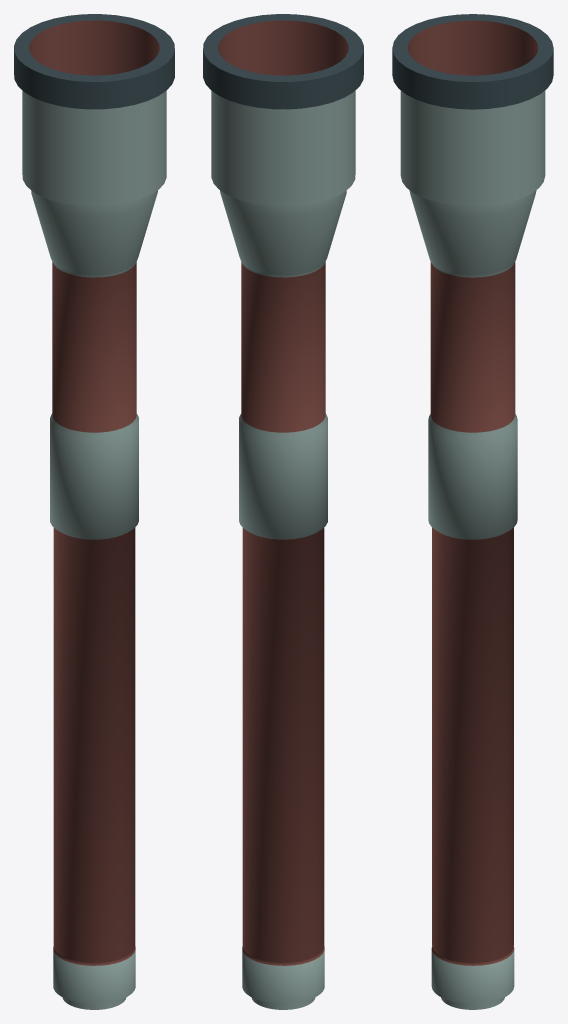
File: Torchlight.fbx
The picture shows the model from 3 angles, left to right: view 1: azimuth 30°, elevation 25°; view 2: azimuth 150°, elevation 25°; view 3: azimuth 270°, elevation 25°; orthographic projection.
Parts seen in each view (by area): view 1: Cylinder; view 2: Cylinder; view 3: Cylinder.
Part boxes in pixels (x1,y1,x2,y2): Cylinder: (14, 14, 174, 1009); Cylinder: (203, 14, 363, 1009); Cylinder: (392, 14, 553, 1009).
Bounding box in the file's own units: 201 × 1306 × 201.
